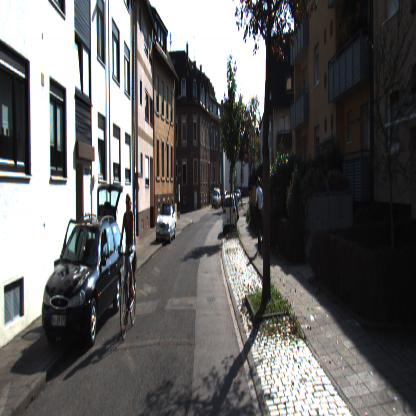car: (43, 218, 127, 350)
